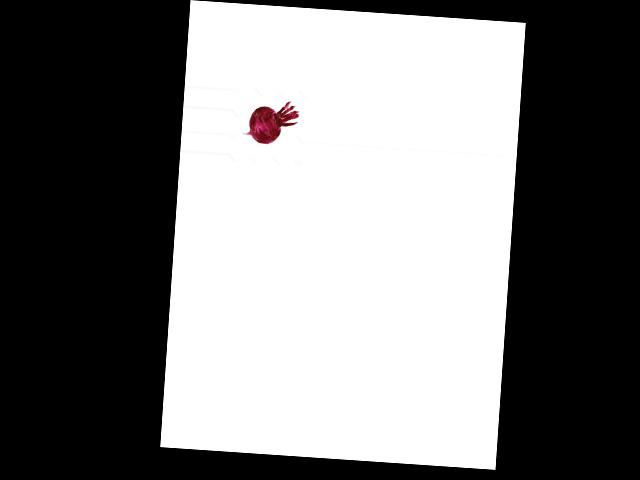beet: (241, 98, 299, 146)
